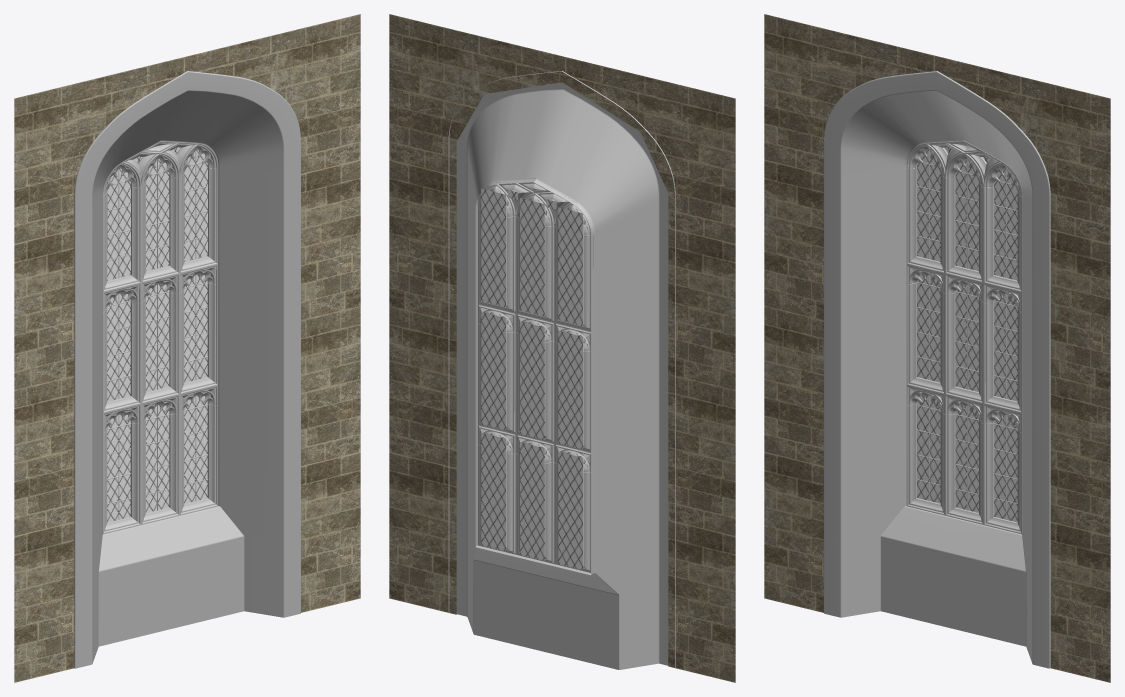
The picture shows the model from 3 angles, left to right: view 1: azimuth 30°, elevation 25°; view 2: azimuth 150°, elevation 25°; view 3: azimuth 330°, elevation 25°; orthographic projection.
Parts seen in each view (by area): view 1: back_wall, hole, window_mid_bottom, window_bottom_bottom, window_top_bottom, window_top_top, pane01, pane03, pane09, pane07, pane04, pane06 (+5 smaller); view 2: back_wall, hole, window_bottom_bottom, window_mid_bottom, window_top_bottom, pane02, pane03, pane04, pane05, pane09, pane01, pane06 (+5 smaller); view 3: back_wall, hole, window_mid_bottom, window_bottom_bottom, window_top_bottom, window_top_top, pane01, pane03, pane07, pane09, pane04, pane06 (+5 smaller).
Boxes of the visible parts, x1,y1,x2,y2 form: back_wall: [14, 14, 360, 682]; hole: [74, 71, 300, 668]; window_mid_bottom: [103, 283, 218, 413]; window_bottom_bottom: [103, 404, 218, 534]; window_top_bottom: [103, 168, 218, 292]; window_top_top: [103, 141, 218, 196]; pane01: [107, 168, 130, 280]; pane03: [184, 149, 207, 261]; pane09: [184, 395, 207, 503]; pane07: [107, 414, 130, 522]; pane04: [107, 293, 130, 401]; pane06: [184, 274, 207, 382]; back_wall: [389, 14, 735, 682]; hole: [448, 71, 675, 669]; window_bottom_bottom: [478, 444, 590, 572]; window_mid_bottom: [478, 323, 590, 451]; window_top_bottom: [478, 208, 593, 330]; pane02: [520, 198, 544, 316]; pane03: [481, 188, 505, 306]; pane04: [558, 331, 582, 449]; pane05: [520, 321, 544, 439]; pane09: [481, 433, 505, 551]; pane01: [558, 207, 582, 325]; pane06: [481, 312, 505, 430]; back_wall: [764, 14, 1110, 682]; hole: [824, 71, 1050, 668]; window_mid_bottom: [906, 283, 1021, 413]; window_bottom_bottom: [906, 404, 1021, 534]; window_top_bottom: [906, 168, 1021, 292]; window_top_top: [906, 141, 1021, 196]; pane01: [917, 149, 940, 261]; pane03: [994, 168, 1017, 280]; pane07: [917, 395, 940, 503]; pane09: [994, 414, 1017, 522]; pane04: [917, 274, 940, 382]; pane06: [994, 293, 1017, 401].
Size of the model in its own units: 4.8 by 7.73 by 0.7438.
